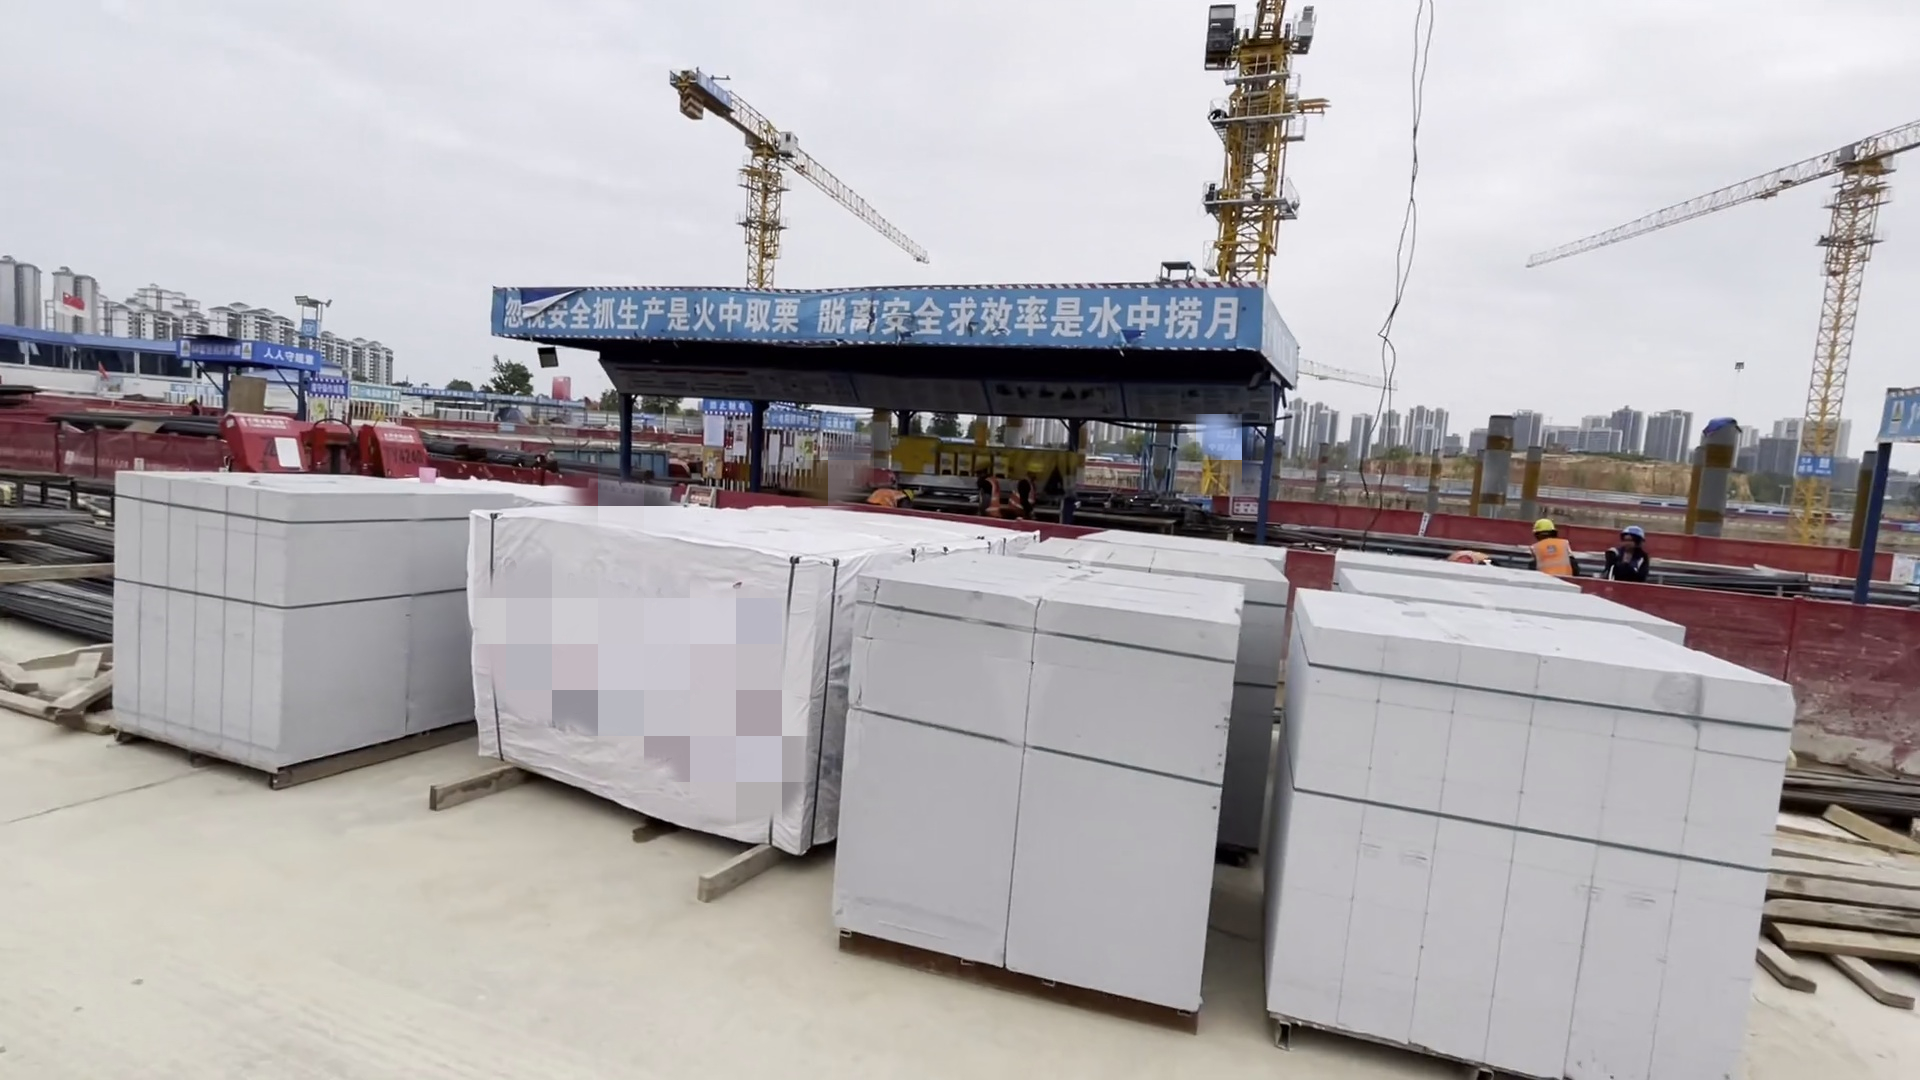brick: (771, 514, 1801, 1080), (117, 466, 467, 785)
helmet: (1523, 514, 1562, 538)
person: (1000, 455, 1068, 527), (860, 476, 920, 512), (972, 459, 1004, 520)
slogan: (491, 275, 1256, 351), (173, 334, 327, 367)
vest: (1008, 469, 1040, 516), (869, 486, 906, 515), (980, 466, 1000, 516)
